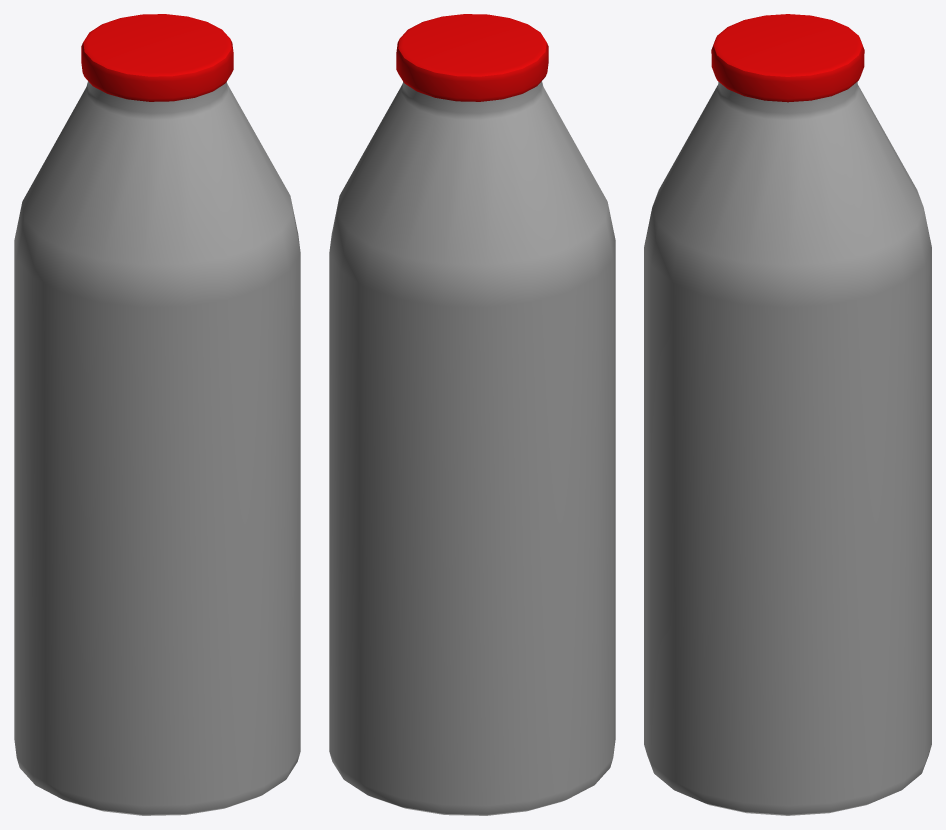
The model's file is Bottle.fbx.
3 renders of one model, left to right at view 1: azimuth 30°, elevation 25°; view 2: azimuth 150°, elevation 25°; view 3: azimuth 270°, elevation 25°, orthographic.
Parts seen in each view (by area): view 1: GlassBottle; view 2: GlassBottle; view 3: GlassBottle.
Part boxes in pixels (x1,y1,x2,y2): GlassBottle: (14,14,300,815); GlassBottle: (329,14,615,815); GlassBottle: (644,14,931,815).
Bounding box in the file's own units: 48.24 × 132 × 48.24.
